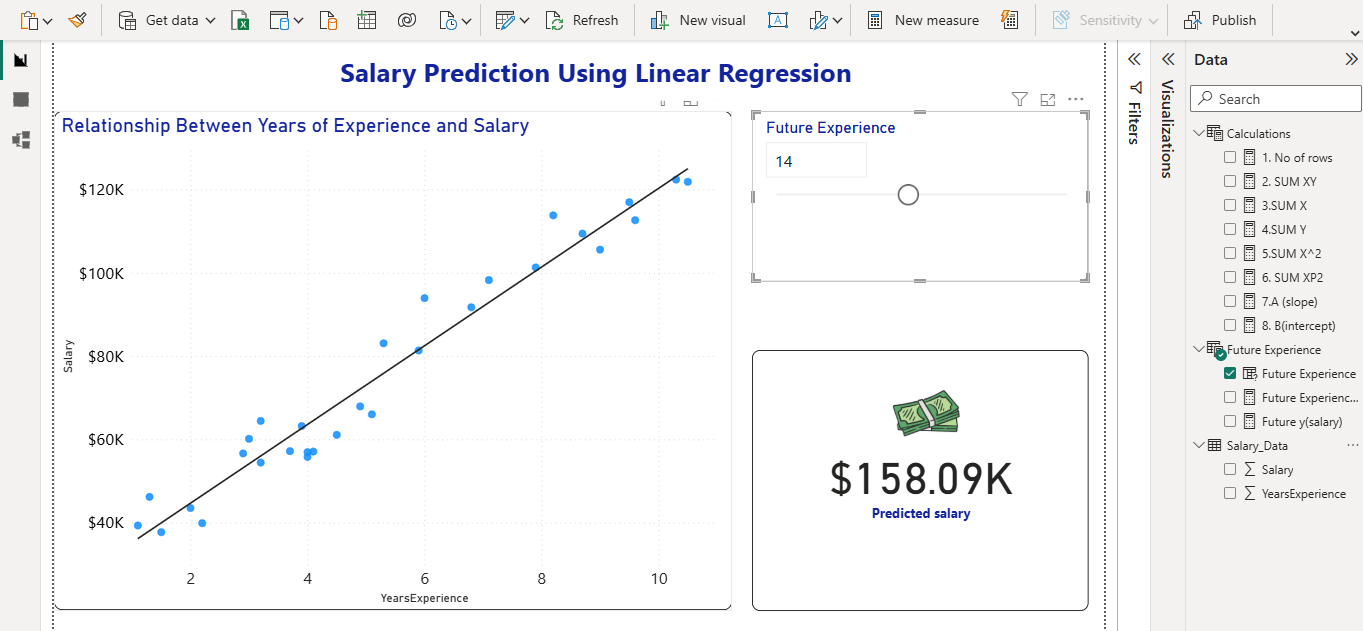

The page's visual inventory and layout, read from the dashboard file:
{"tool":"powerbi","page":{"name":"linear regression","canvas":[1280,720],"ordinal":0},"visuals":[{"type":"card","fields":{"Values":["Future Experience.Future y(salary)"]},"box":[850.6,377.1,410.2,317.9],"z":0},{"type":"scatterChart","title":"Relationship Between Years of Experience and Salary","fields":{"Y":["Sum(Salary_Data.Salary)"],"X":["Sum(Salary_Data.YearsExperience)"],"Category":["Salary_Data.Salary"]},"box":[0,86.7,825.8,608.3],"z":1000},{"type":"slicer","fields":{"Values":["Future Experience.Future Experience"]},"box":[850.6,86.7,410.2,207.8],"z":2000},{"type":"textbox","box":[315.2,11,689.5,63.3],"z":3000},{"type":"image","box":[1004.7,403.3,115.6,103.2],"z":4000}]}

Visuals, with their boxes in screenshot pixels (x1, y1, x2, y2):
card - Future Experience.Future y(salary): [left=750, top=330, right=1105, bottom=605]
"Relationship Between Years of Experience and Salary" scatterChart: [left=14, top=79, right=729, bottom=605]
slicer - Future Experience.Future Experience: [left=750, top=79, right=1105, bottom=258]
textbox: [left=287, top=13, right=884, bottom=68]
image: [left=884, top=353, right=984, bottom=442]
